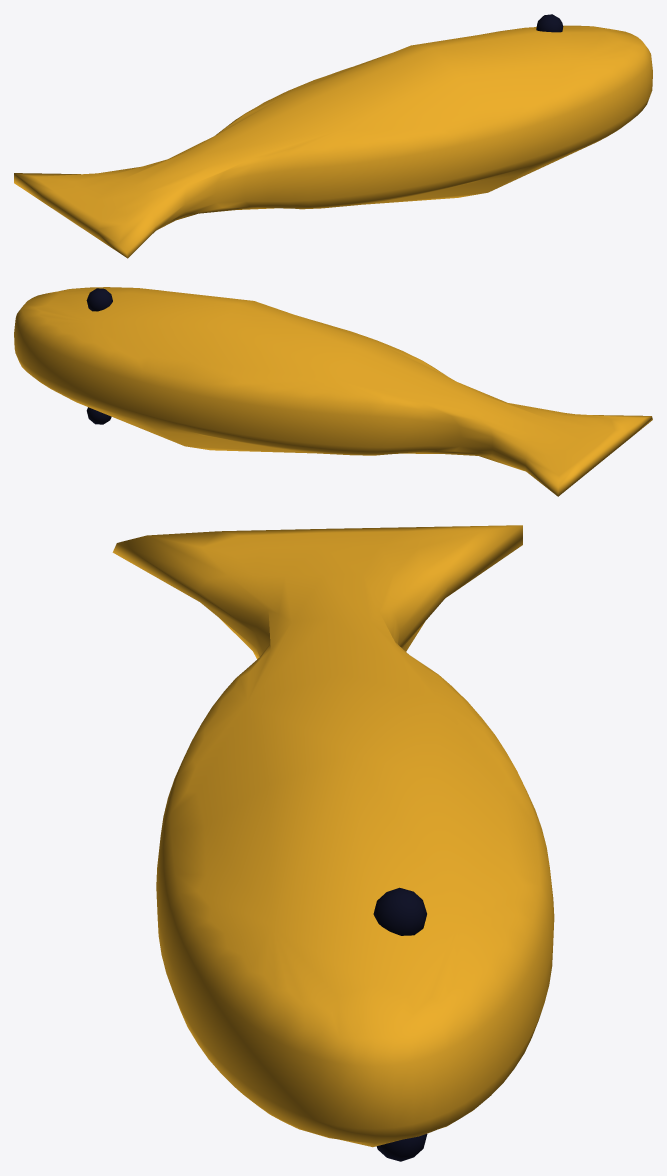
Rendered from Fish.fbx.
The picture shows the model from 3 angles, top to bottom: view 1: azimuth 30°, elevation 25°; view 2: azimuth 150°, elevation 25°; view 3: azimuth 270°, elevation 25°; orthographic projection. The views are drawn at different scales.
Visible parts, largest first — view 1: Circle; view 2: Circle; view 3: Circle.
Part boxes in pixels (x1=…): Circle: x1=14, y1=14, x2=652, y2=258; Circle: x1=14, y1=287, x2=652, y2=496; Circle: x1=112, y1=525, x2=554, y2=1161.
Bounding box in the file's own units: 123 × 30.96 × 40.81.
